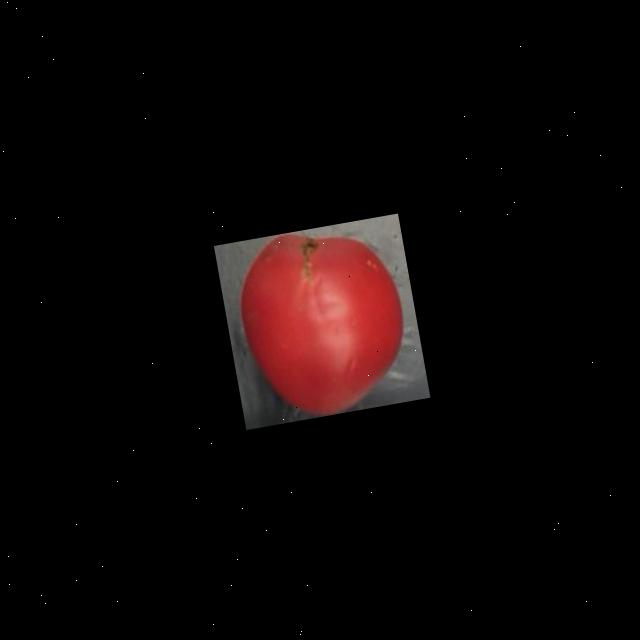tomato: (224, 213, 418, 426)
